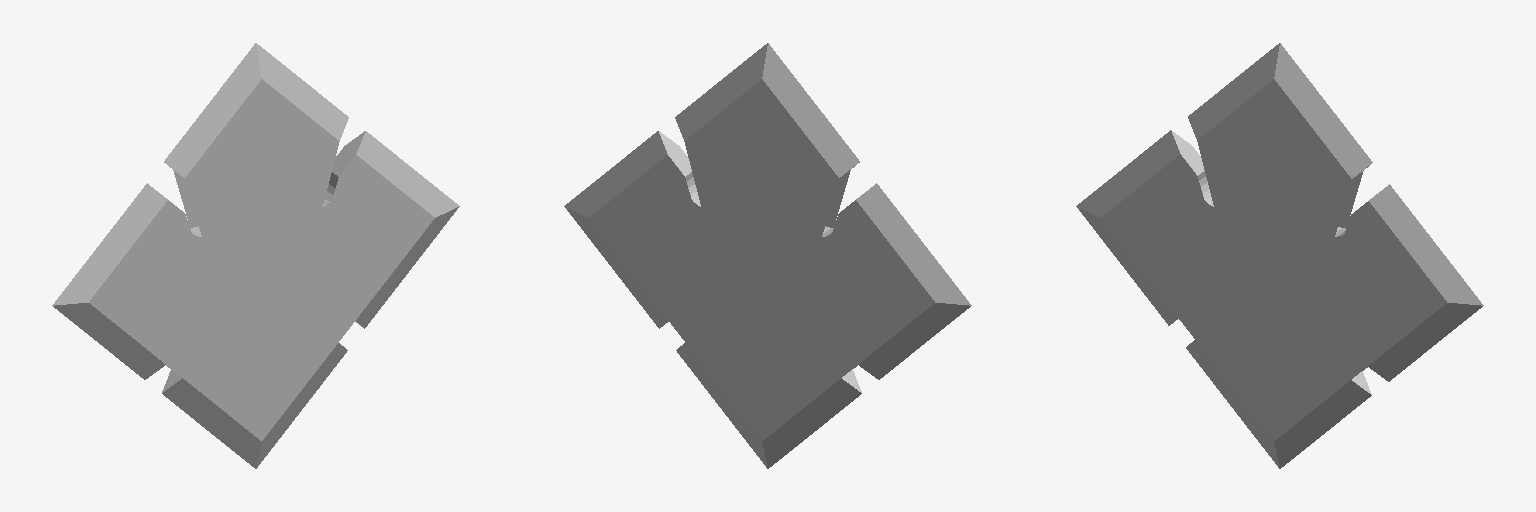
File: Shuriken_13.obj
3 renders of one model, left to right at view 1: azimuth 30°, elevation 25°; view 2: azimuth 150°, elevation 25°; view 3: azimuth 330°, elevation 25°, orthographic.
Parts seen in each view (by area): view 1: Shuriken_13; view 2: Shuriken_13; view 3: Shuriken_13.
Part boxes in pixels (x1,y1,x2,y2): Shuriken_13: (52, 43, 459, 468); Shuriken_13: (564, 43, 971, 468); Shuriken_13: (1076, 43, 1483, 468).
Size of the model in its own units: 2 by 2 by 0.0996.